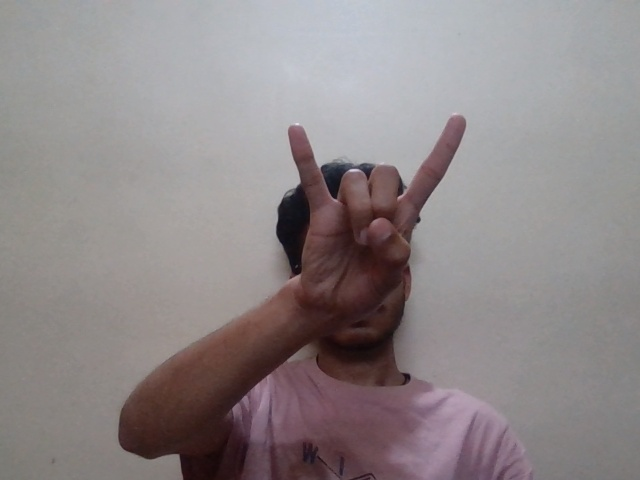i-love-you: (276, 109, 477, 319)
